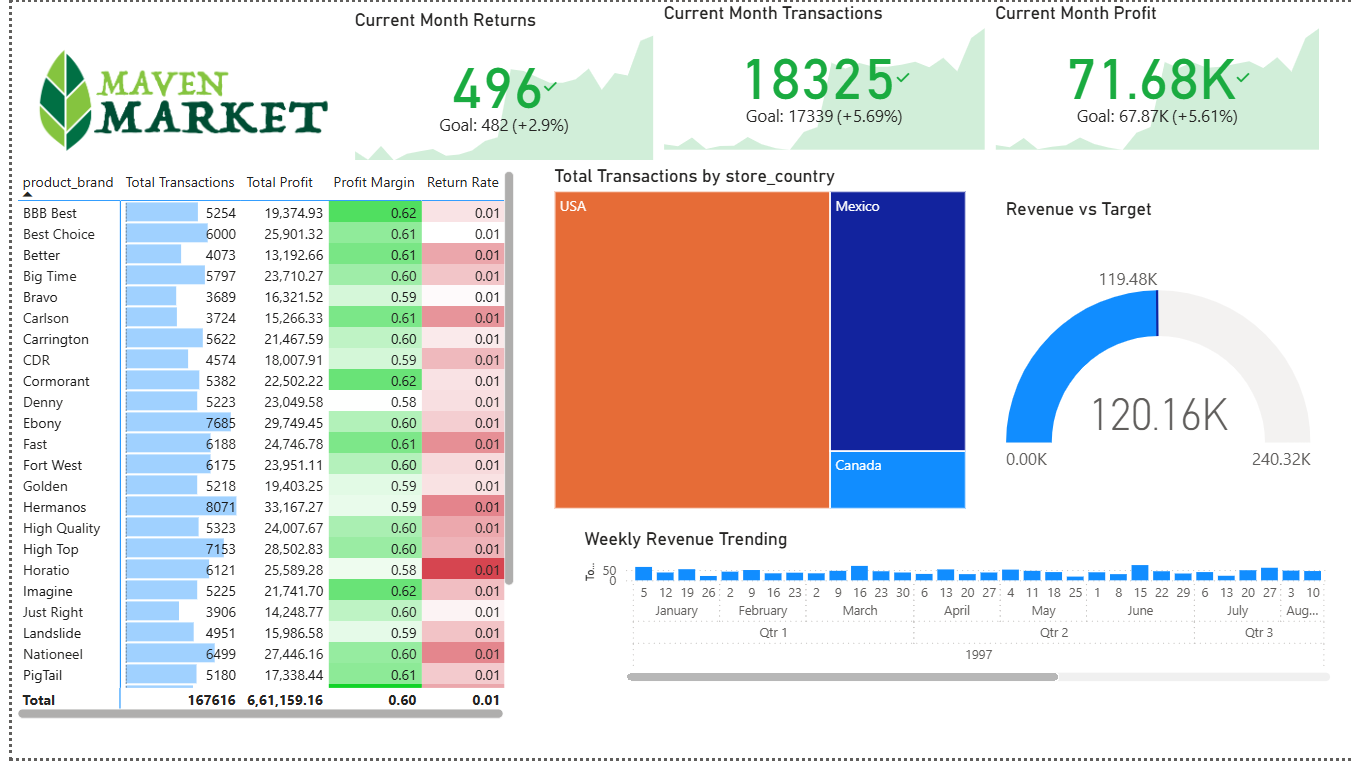

The dashboard page shown, as its layout file describes it:
{"tool":"powerbi","page":{"name":"topline performance","canvas":[1280,720],"ordinal":1},"visuals":[{"type":"image","box":[12.9,0,298.6,187.1],"z":0},{"type":"pivotTable","fields":{"Rows":["Products.product_brand"],"Values":["transactions data.Total Transactions","transactions data.Total Profit","transactions data.Profit Margin","transactions data.Return Rate"]},"box":[0,155.7,482.9,531.4],"z":1000},{"type":"kpi","title":"Current Month Transactions","fields":{"TrendLine":["Calendar.Start of Month.Variation.Date Hierarchy.Month"],"Indicator":["transactions data.Total Transactions"],"Goal":["transactions data.Last Month Transactions"]},"box":[615.7,0,315.7,145.7],"z":2000},{"type":"kpi","title":"Current Month Profit","fields":{"TrendLine":["Calendar.Start of Month.Variation.Date Hierarchy.Month"],"Indicator":["transactions data.Total Profit"],"Goal":["transactions data.Last Month Profit"]},"box":[931.4,0,318.6,145.7],"z":3000},{"type":"kpi","title":"Current Month Returns","fields":{"TrendLine":["Calendar.Start of Month.Variation.Date Hierarchy.Month"],"Indicator":["transactions data.Total Returns"],"Goal":["transactions data.Last Month Returns"]},"box":[321.4,7.1,294.3,148.6],"z":4000},{"type":"lineClusteredColumnComboChart","title":"Weekly Revenue Trending","fields":{"Y":["transactions data.Total Returns"],"Category":["Calendar.Start of Week.Variation.Date Hierarchy.Year","Calendar.Start of Week.Variation.Date Hierarchy.Quarter","Calendar.Start of Week.Variation.Date Hierarchy.Month","Calendar.Start of Week.Variation.Date Hierarchy.Day"]},"box":[540,501.4,720,150],"z":5000},{"type":"gauge","title":"Revenue vs Target","fields":{"Y":["transactions data.Total Revenue"],"TargetValue":["transactions data.Revenue Target"]},"box":[941.4,187.1,300,300],"z":6000},{"type":"treemap","fields":{"Group":["Stores.store_country"],"Values":["transactions data.Total Transactions"]},"box":[511.4,155.7,401.4,331.4],"z":7000}]}

Visuals, with their boxes in screenshot pixels (x1, y1, x2, y2), scaled from the page's 1280x720 canvas onto the 1353x764 screenshot:
image: box(14, 0, 329, 199)
pivotTable - Products.product_brand x transactions data.Total Transactions: box(0, 165, 510, 729)
"Current Month Transactions" kpi: box(651, 0, 985, 155)
"Current Month Profit" kpi: box(985, 0, 1321, 155)
"Current Month Returns" kpi: box(340, 8, 651, 165)
"Weekly Revenue Trending" lineClusteredColumnComboChart: box(571, 532, 1332, 691)
"Revenue vs Target" gauge: box(995, 199, 1312, 517)
treemap - Stores.store_country x transactions data.Total Transactions: box(541, 165, 965, 517)
